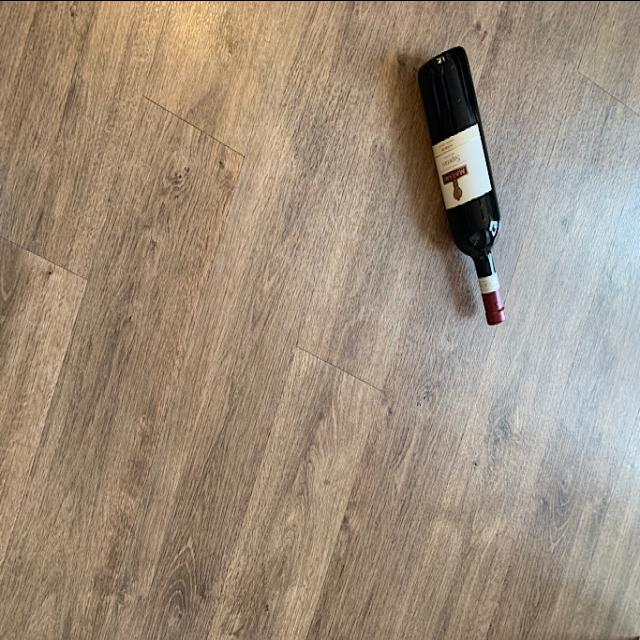Glass Bottle: (414, 41, 510, 326)
